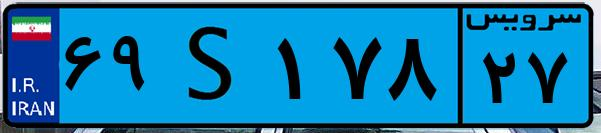1: (270, 28, 330, 110)
2: (475, 38, 525, 113)
6: (57, 26, 110, 100)
7: (330, 28, 385, 110), (525, 38, 570, 115)
8: (385, 28, 445, 110)
9: (110, 28, 158, 98)
S: (158, 12, 270, 120)
